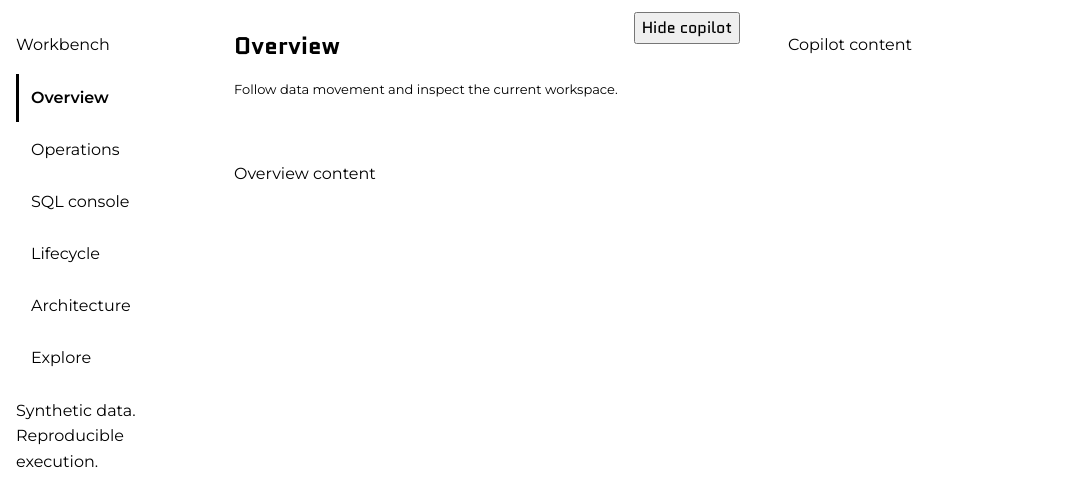
Test: workbench navigation › exposes a collapsible copilot with disclosure state
Step 1. Click the button "Hide copilot" → point(687, 28), box x1=634 y1=12 x2=740 y2=44
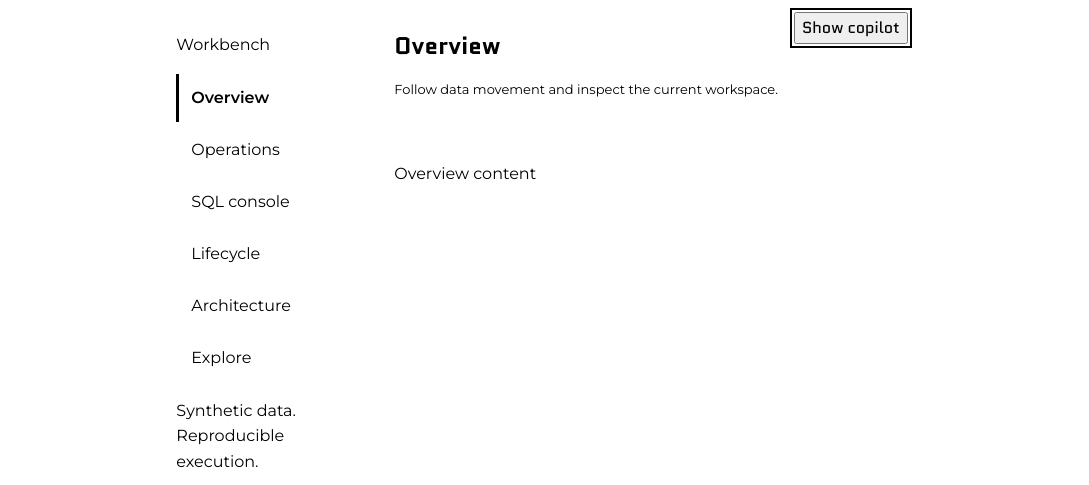
Step 2. Click the button "Show copilot" → point(851, 28), box x1=794 y1=12 x2=908 y2=44
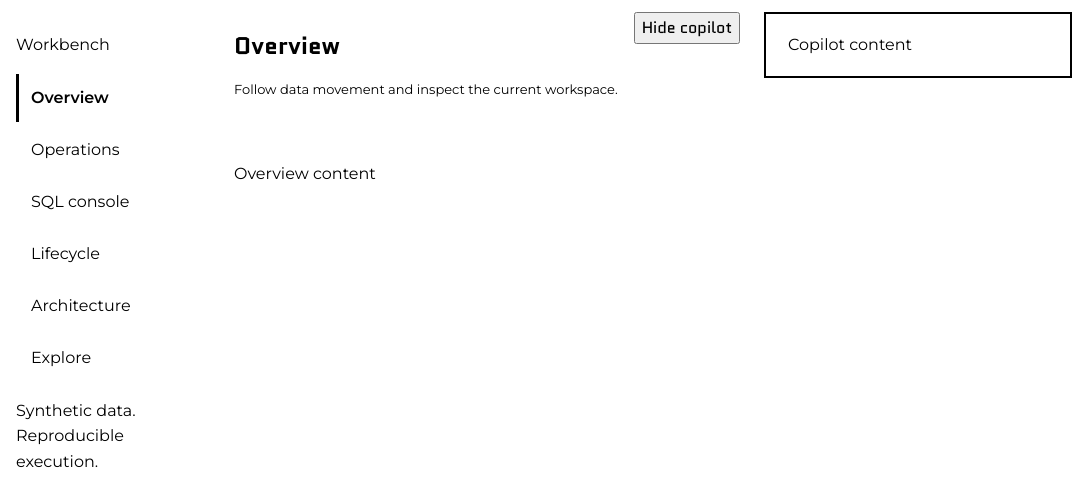
Result: the element named "Data copilot" is shown at x1=788 y1=35 x2=912 y2=54
Result: the button "Hide copilot" is expanded at x1=634 y1=12 x2=740 y2=44
